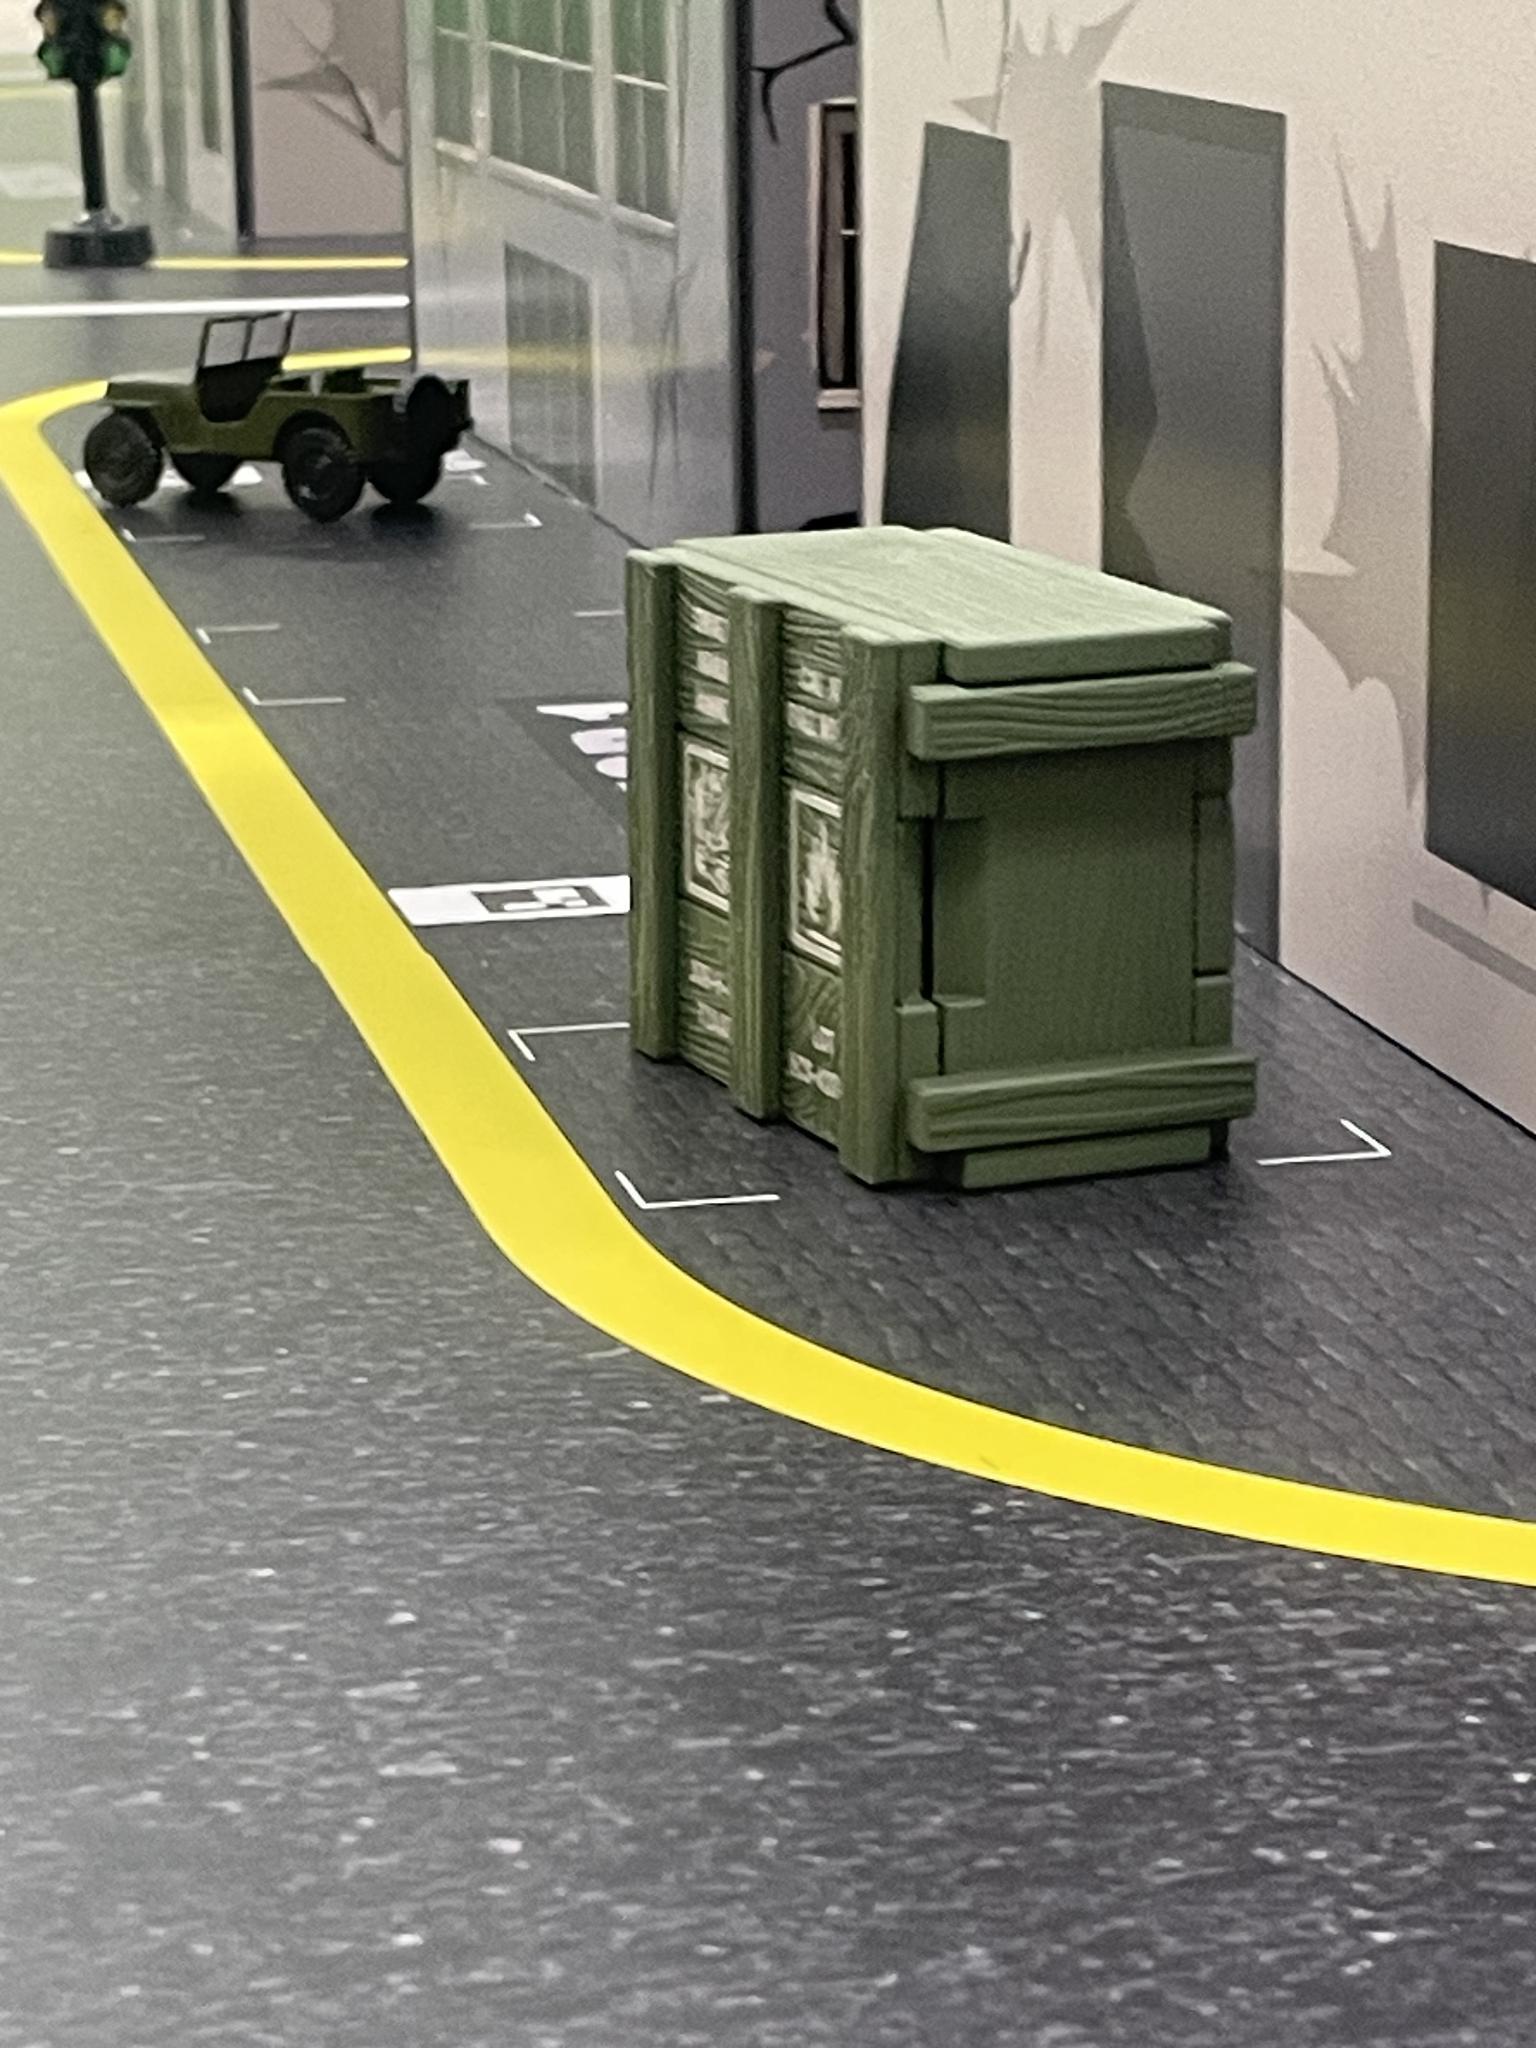Box: (616, 511, 1288, 1209)
Car: (89, 300, 481, 547)
